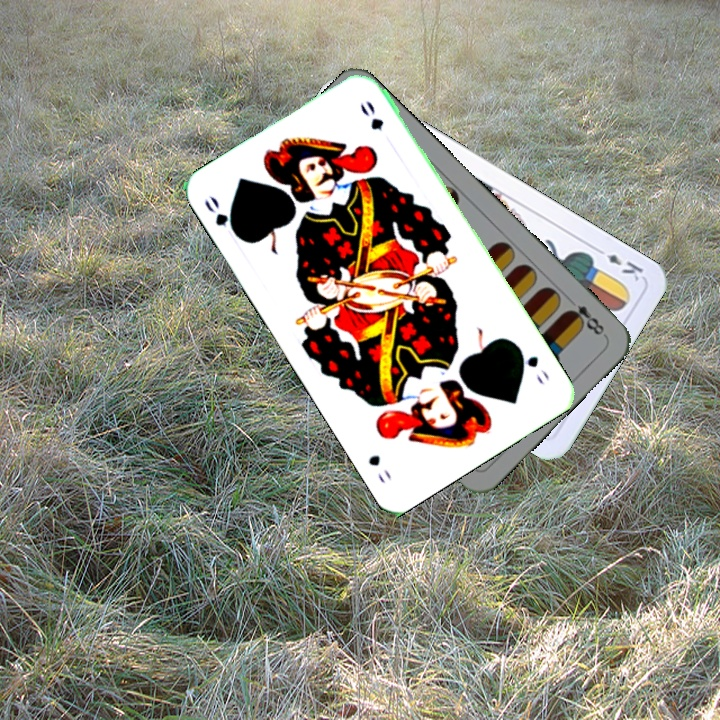E8: (562, 292, 609, 339)
EK: (591, 243, 646, 284)
GO: (200, 192, 244, 242), (512, 341, 552, 388)
